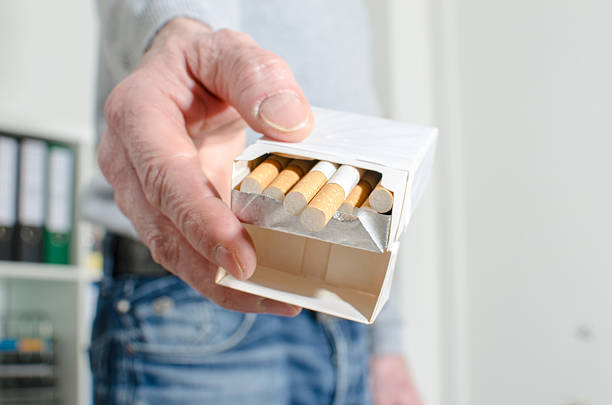cigarette: (210, 106, 441, 328), (299, 163, 363, 233), (283, 159, 340, 217), (262, 155, 317, 203), (239, 154, 292, 196), (338, 171, 381, 216), (368, 176, 398, 214)
